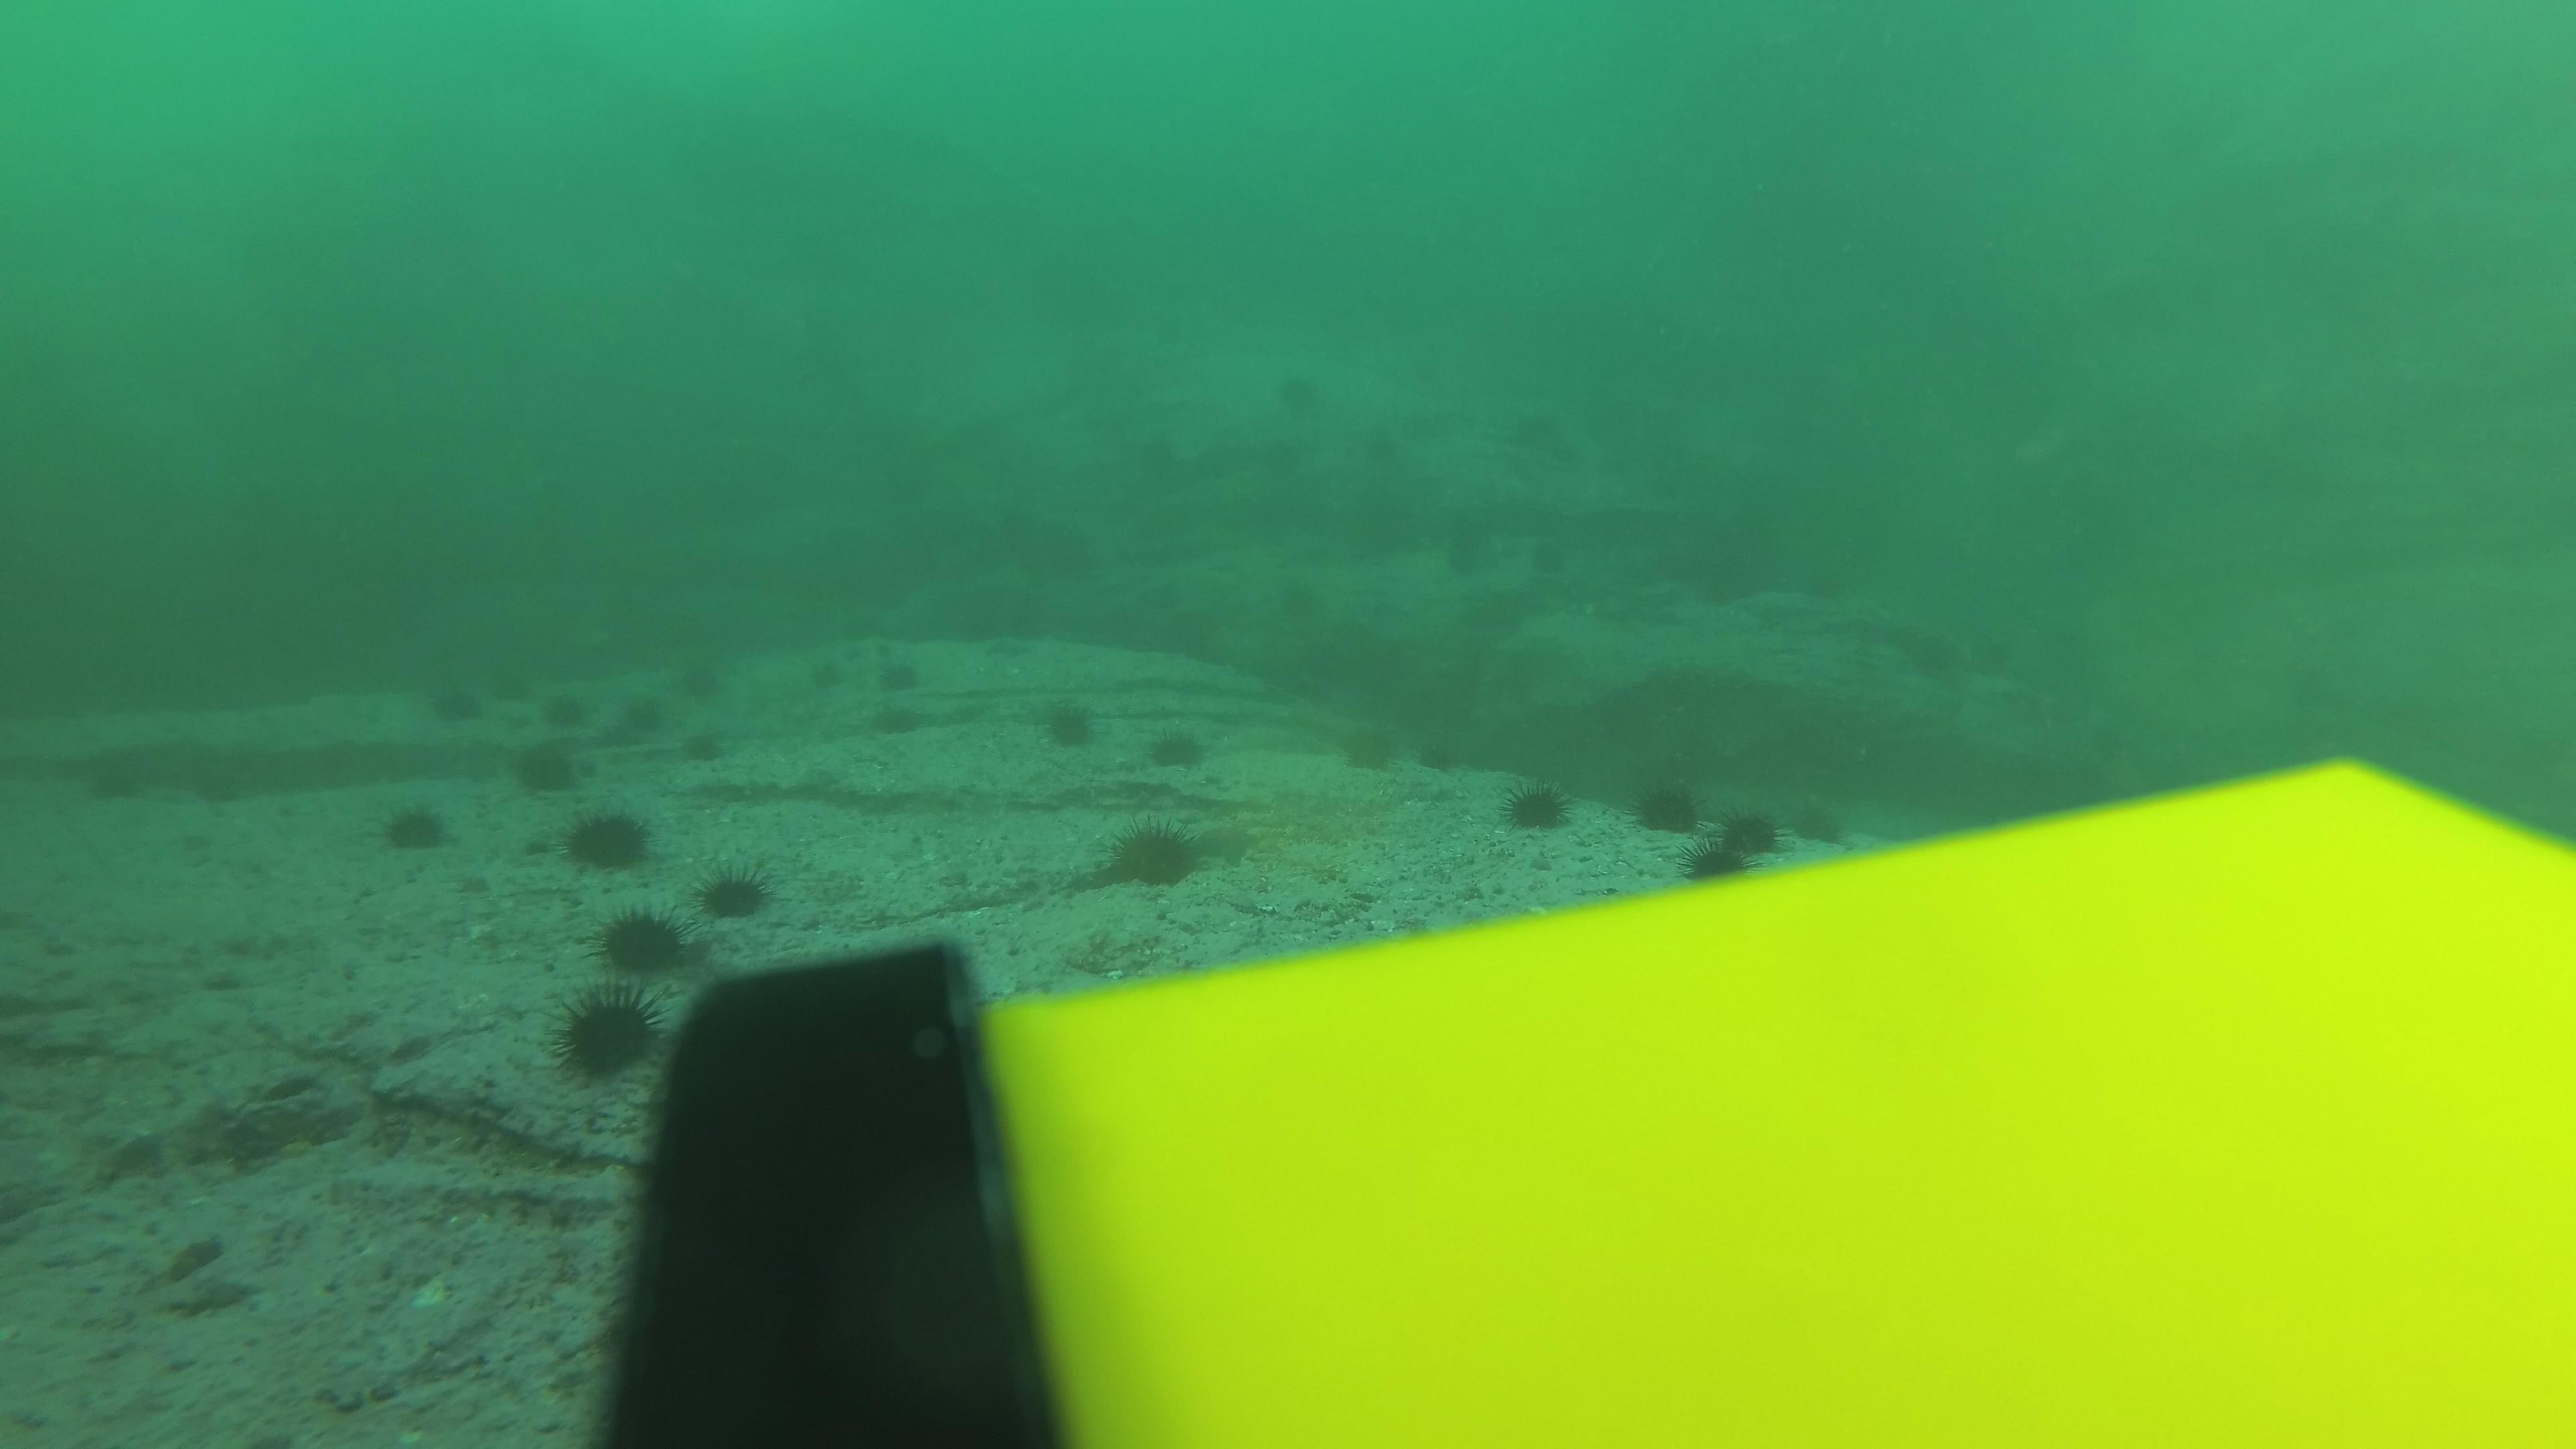echinus: (548, 984, 662, 1085), (1095, 816, 1208, 897), (593, 904, 690, 980), (559, 800, 655, 876), (697, 858, 777, 925), (510, 732, 589, 800), (1497, 773, 1576, 839), (373, 794, 455, 858), (1628, 773, 1706, 839), (1030, 690, 1106, 755), (1334, 715, 1408, 778), (1686, 835, 1760, 892), (1714, 803, 1789, 858), (1796, 800, 1868, 855), (1143, 720, 1212, 775), (426, 676, 488, 729), (610, 694, 663, 734), (676, 658, 729, 699), (538, 686, 591, 725), (674, 727, 727, 766), (1410, 743, 1465, 778), (1281, 582, 1323, 617), (1470, 589, 1513, 625), (1357, 430, 1399, 465), (1401, 350, 1444, 386), (1913, 640, 1955, 676), (1810, 570, 1851, 605), (878, 658, 920, 692), (878, 704, 920, 738), (801, 658, 844, 692), (1281, 377, 1323, 410), (1263, 439, 1306, 472), (1136, 437, 1178, 471), (1523, 545, 1566, 579), (1444, 529, 1484, 563), (1516, 412, 1557, 446)
starfish: (1185, 816, 1263, 870)
